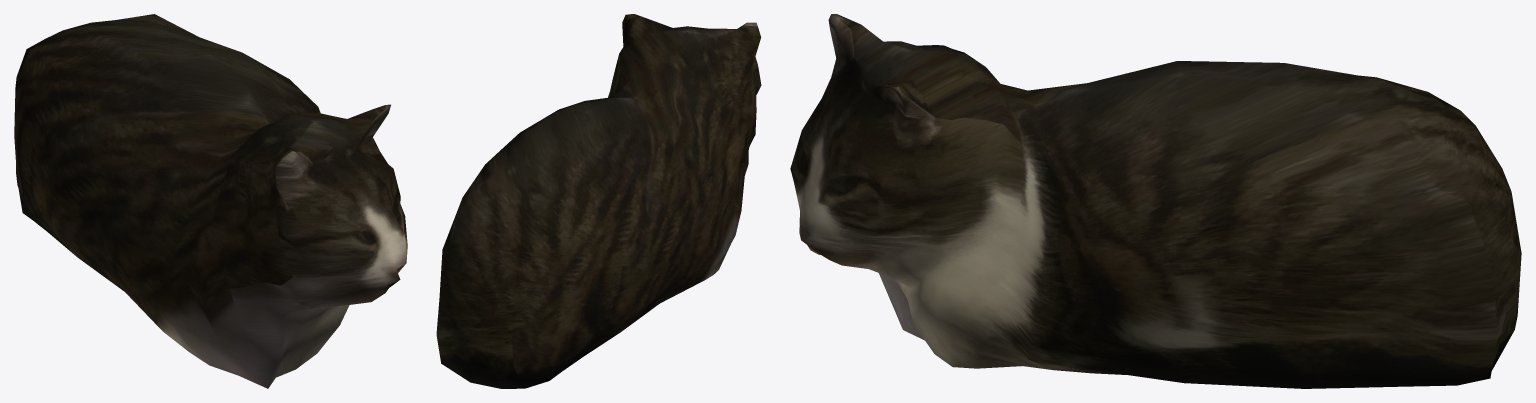
The model's file is Cat Oi.obj.
3 views of the same model, side by side, from view 1: azimuth 30°, elevation 25°; view 2: azimuth 150°, elevation 25°; view 3: azimuth 270°, elevation 25° (orthographic). The views are drawn at different scales.
Parts seen in each view (by area): view 1: cat; view 2: cat; view 3: cat.
Part boxes in pixels (x1,y1,x2,y2): cat: (14,14,407,388); cat: (436,14,761,388); cat: (790,14,1521,388).
Size of the model in its own units: 2.18 by 2.52 by 5.21.
